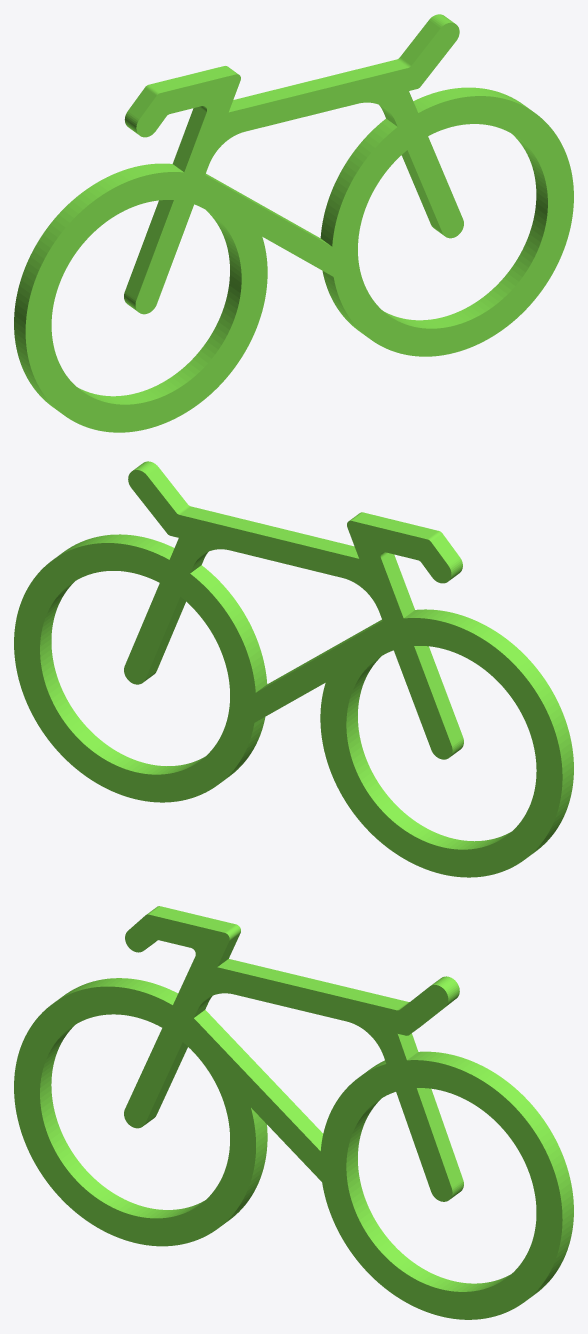
Rendered from bike_green.glb.
3 renders of one model, top to bottom at view 1: azimuth 30°, elevation 25°; view 2: azimuth 150°, elevation 25°; view 3: azimuth 330°, elevation 25°, orthographic.
Visible parts, largest first — view 1: imagetostl_mesh; view 2: imagetostl_mesh; view 3: imagetostl_mesh.
Boxes of the visible parts, x1,y1,x2,y2 form: imagetostl_mesh: [14, 14, 573, 432]; imagetostl_mesh: [14, 461, 573, 877]; imagetostl_mesh: [14, 906, 573, 1319].
Size of the model in its own units: 6.16 by 3.57 by 0.2429.
